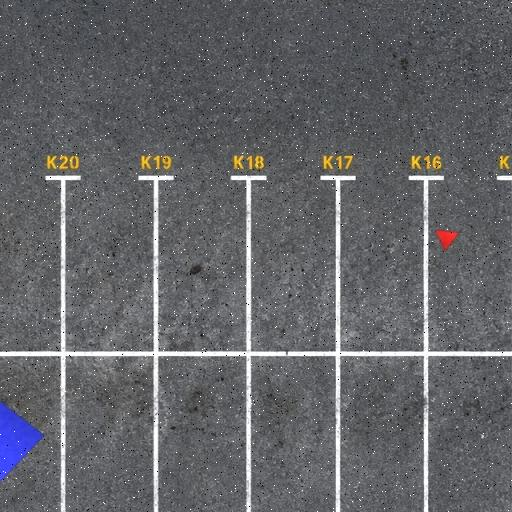BLUE_SQUARE: (0, 400, 45, 482)
